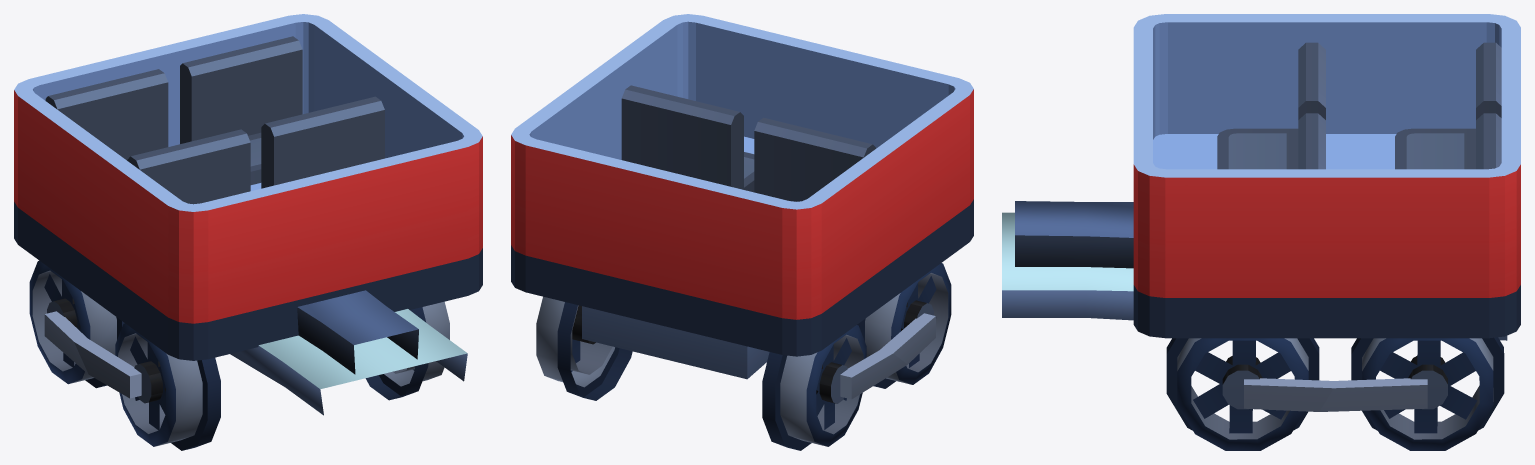
File: train_1-PassengerVagon.fbx
The picture shows the model from 3 angles, left to right: view 1: azimuth 30°, elevation 25°; view 2: azimuth 150°, elevation 25°; view 3: azimuth 270°, elevation 25°; orthographic projection. The views are drawn at different scales.
Visible parts, largest first — view 1: Passenger-vagon.003; view 2: Passenger-vagon.003; view 3: Passenger-vagon.003.
Part boxes in pixels (x1,y1,x2,y2): Passenger-vagon.003: [14, 14, 482, 450]; Passenger-vagon.003: [511, 14, 973, 450]; Passenger-vagon.003: [1002, 14, 1520, 450].
Bounding box in the file's own units: 171 × 141 × 224.
